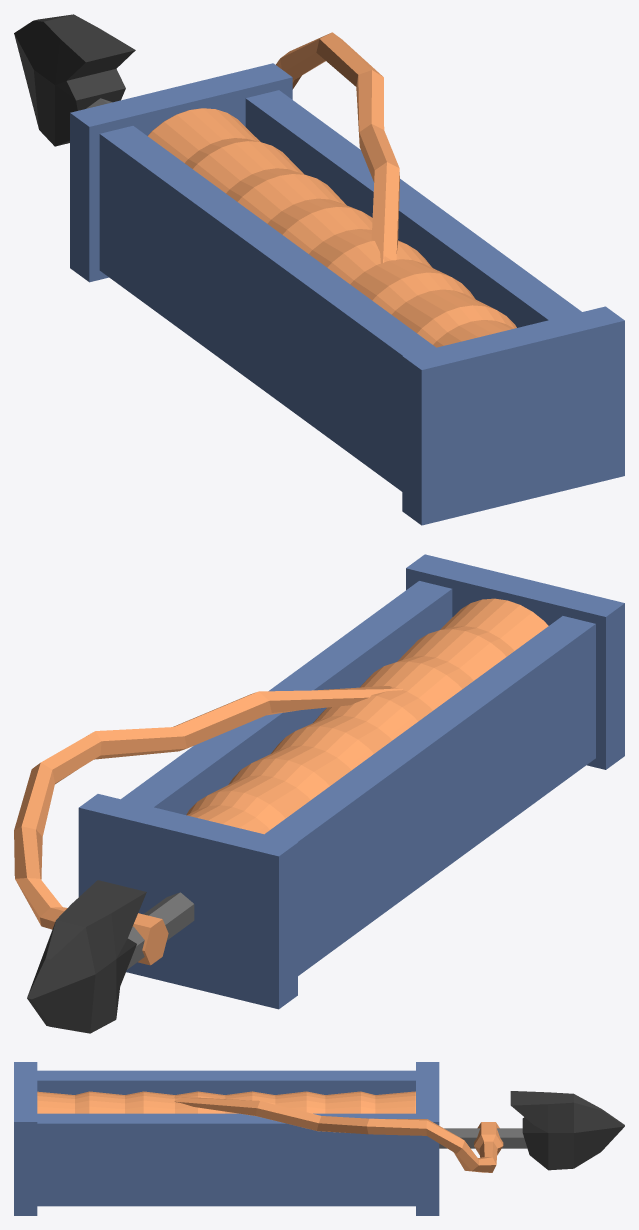
Rendered from Harpoon.fbx.
The picture shows the model from 3 angles, top to bottom: view 1: azimuth 30°, elevation 25°; view 2: azimuth 150°, elevation 25°; view 3: azimuth 270°, elevation 25°; orthographic projection. The views are drawn at different scales.
Visible parts, largest first — view 1: Cube; view 2: Cube; view 3: Cube.
Boxes of the visible parts, x1,y1,x2,y2 form: Cube: (14,14,624,525); Cube: (14,554,624,1033); Cube: (14,1062,624,1215).
Bounding box in the file's own units: 179 × 119 × 600.
